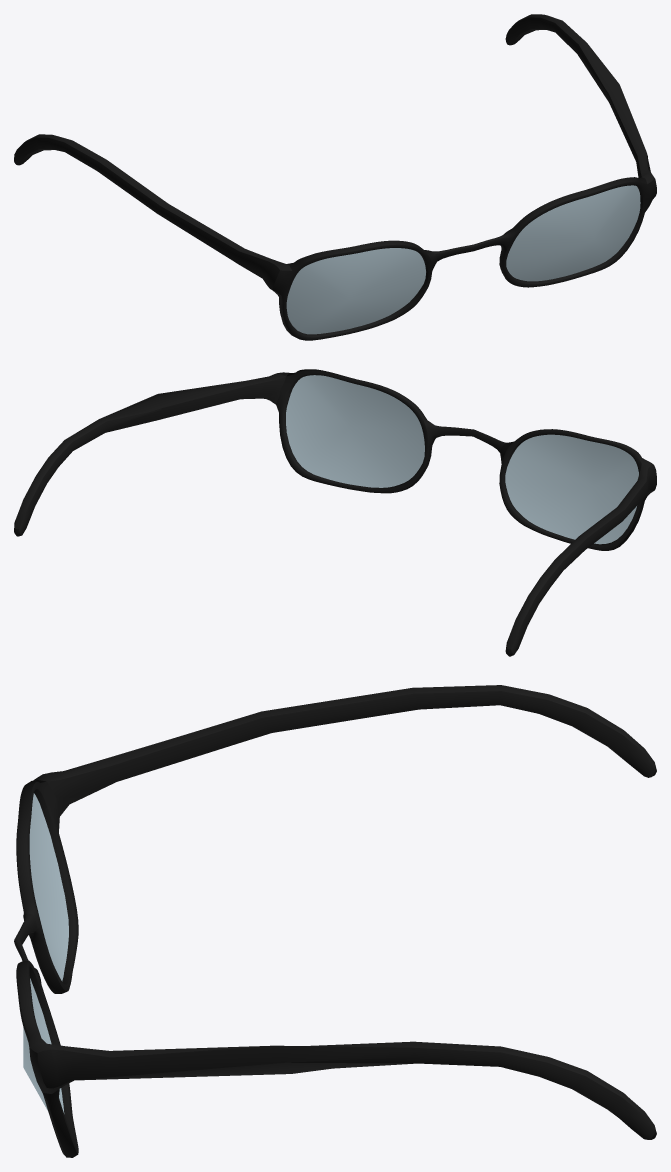
File: glasses.fbx
The picture shows the model from 3 angles, top to bottom: view 1: azimuth 30°, elevation 25°; view 2: azimuth 150°, elevation 25°; view 3: azimuth 270°, elevation 25°; orthographic projection. The views are drawn at different scales.
Visible parts, largest first — view 1: glasses; view 2: glasses; view 3: glasses.
Boxes of the visible parts, x1=… form: glasses: x1=14, y1=14, x2=656, y2=340; glasses: x1=14, y1=369, x2=656, y2=656; glasses: x1=14, y1=685, x2=656, y2=1157.
Size of the model in its own units: 128 by 29.65 by 93.44.
